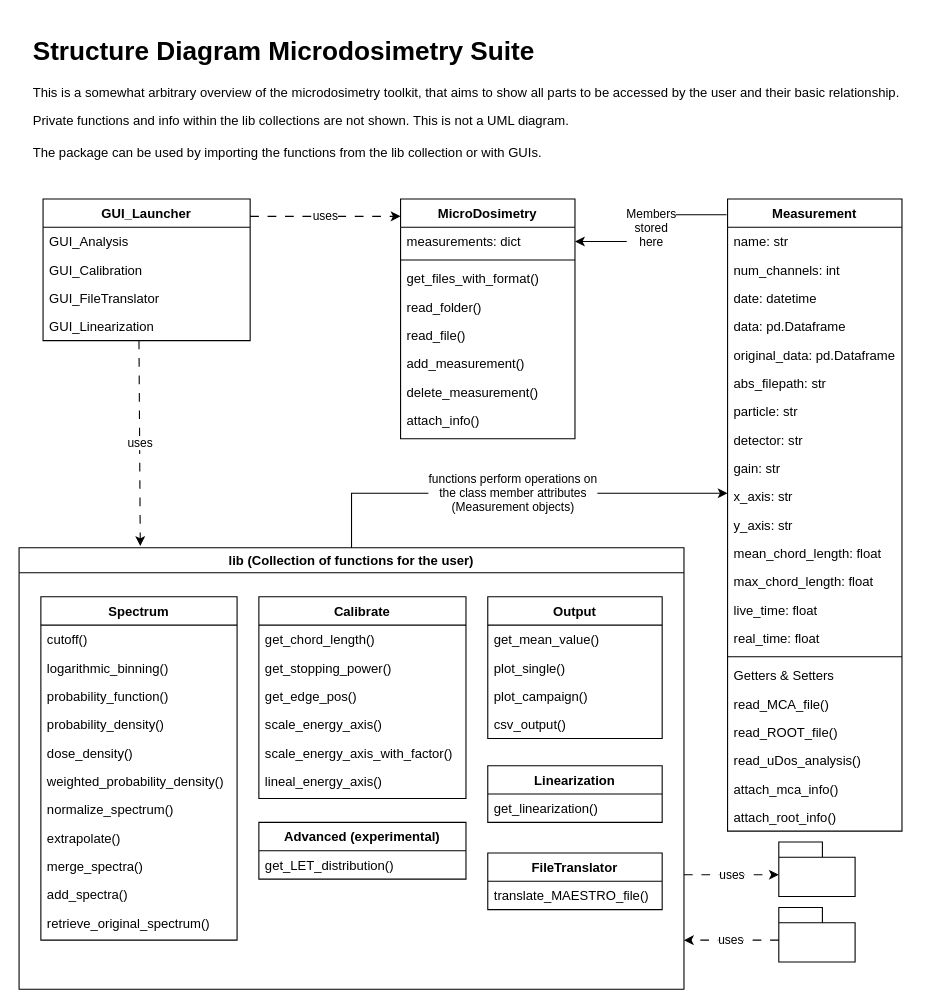
Image size: 928x1008. Some labels were removed from this diagram. Each missing label, with the centre of its shape:
ressources: (x=816, y=869)
tests + templates: (x=816, y=934)
